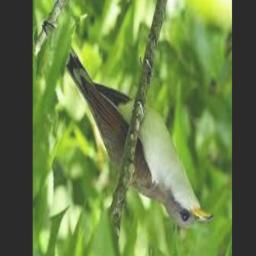Cuckoo: (42, 22, 213, 228)
